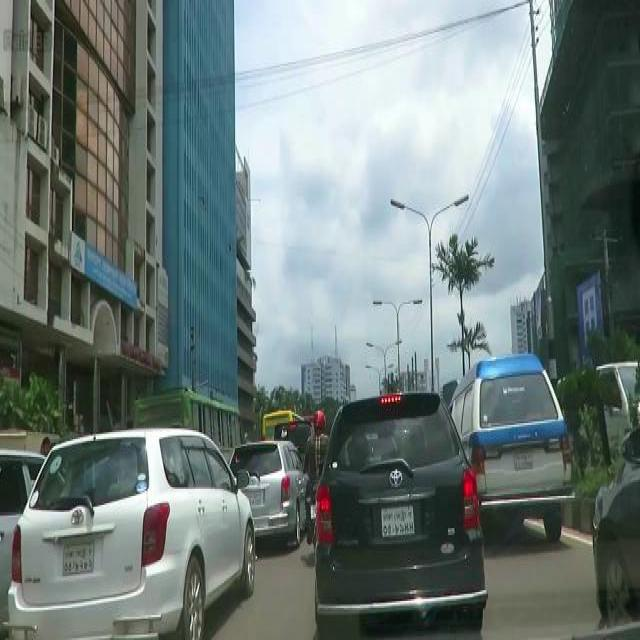bus: (132, 383, 244, 470)
car: (3, 422, 258, 638), (312, 385, 490, 632), (230, 435, 306, 553)
van: (443, 353, 579, 554)
